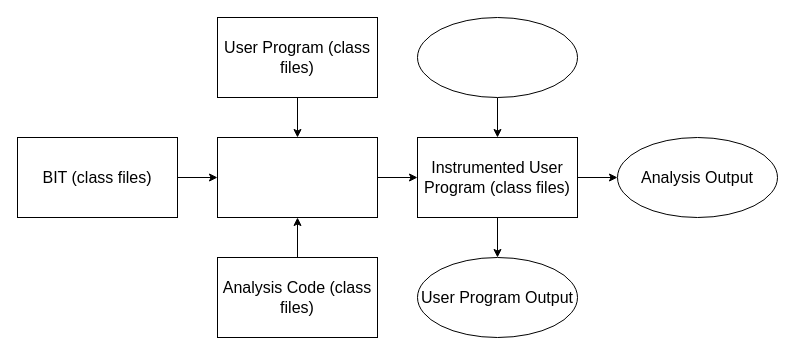
This 795x355 diagram has some shape labels left out. Each missing label, with the centre of its shape:
"Instrumentation Code (class file)" belongs at [297,177].
"User Program Data" belongs at [497,57].
